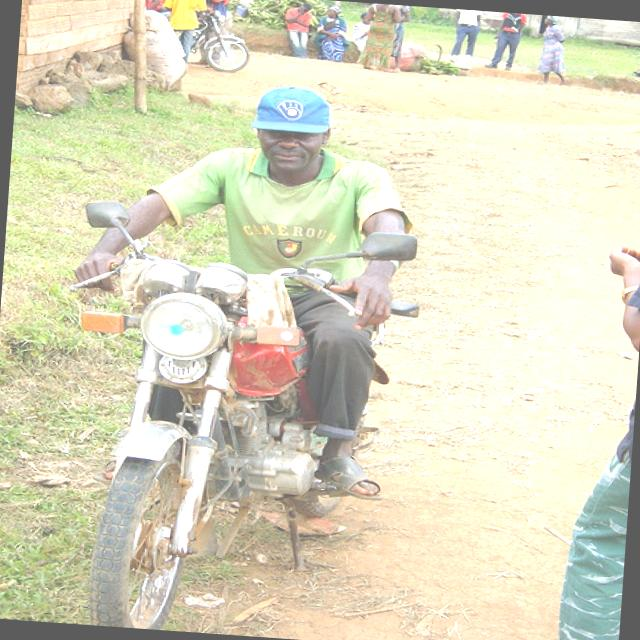Vehicle: (41, 190, 425, 640), (155, 5, 254, 76)
